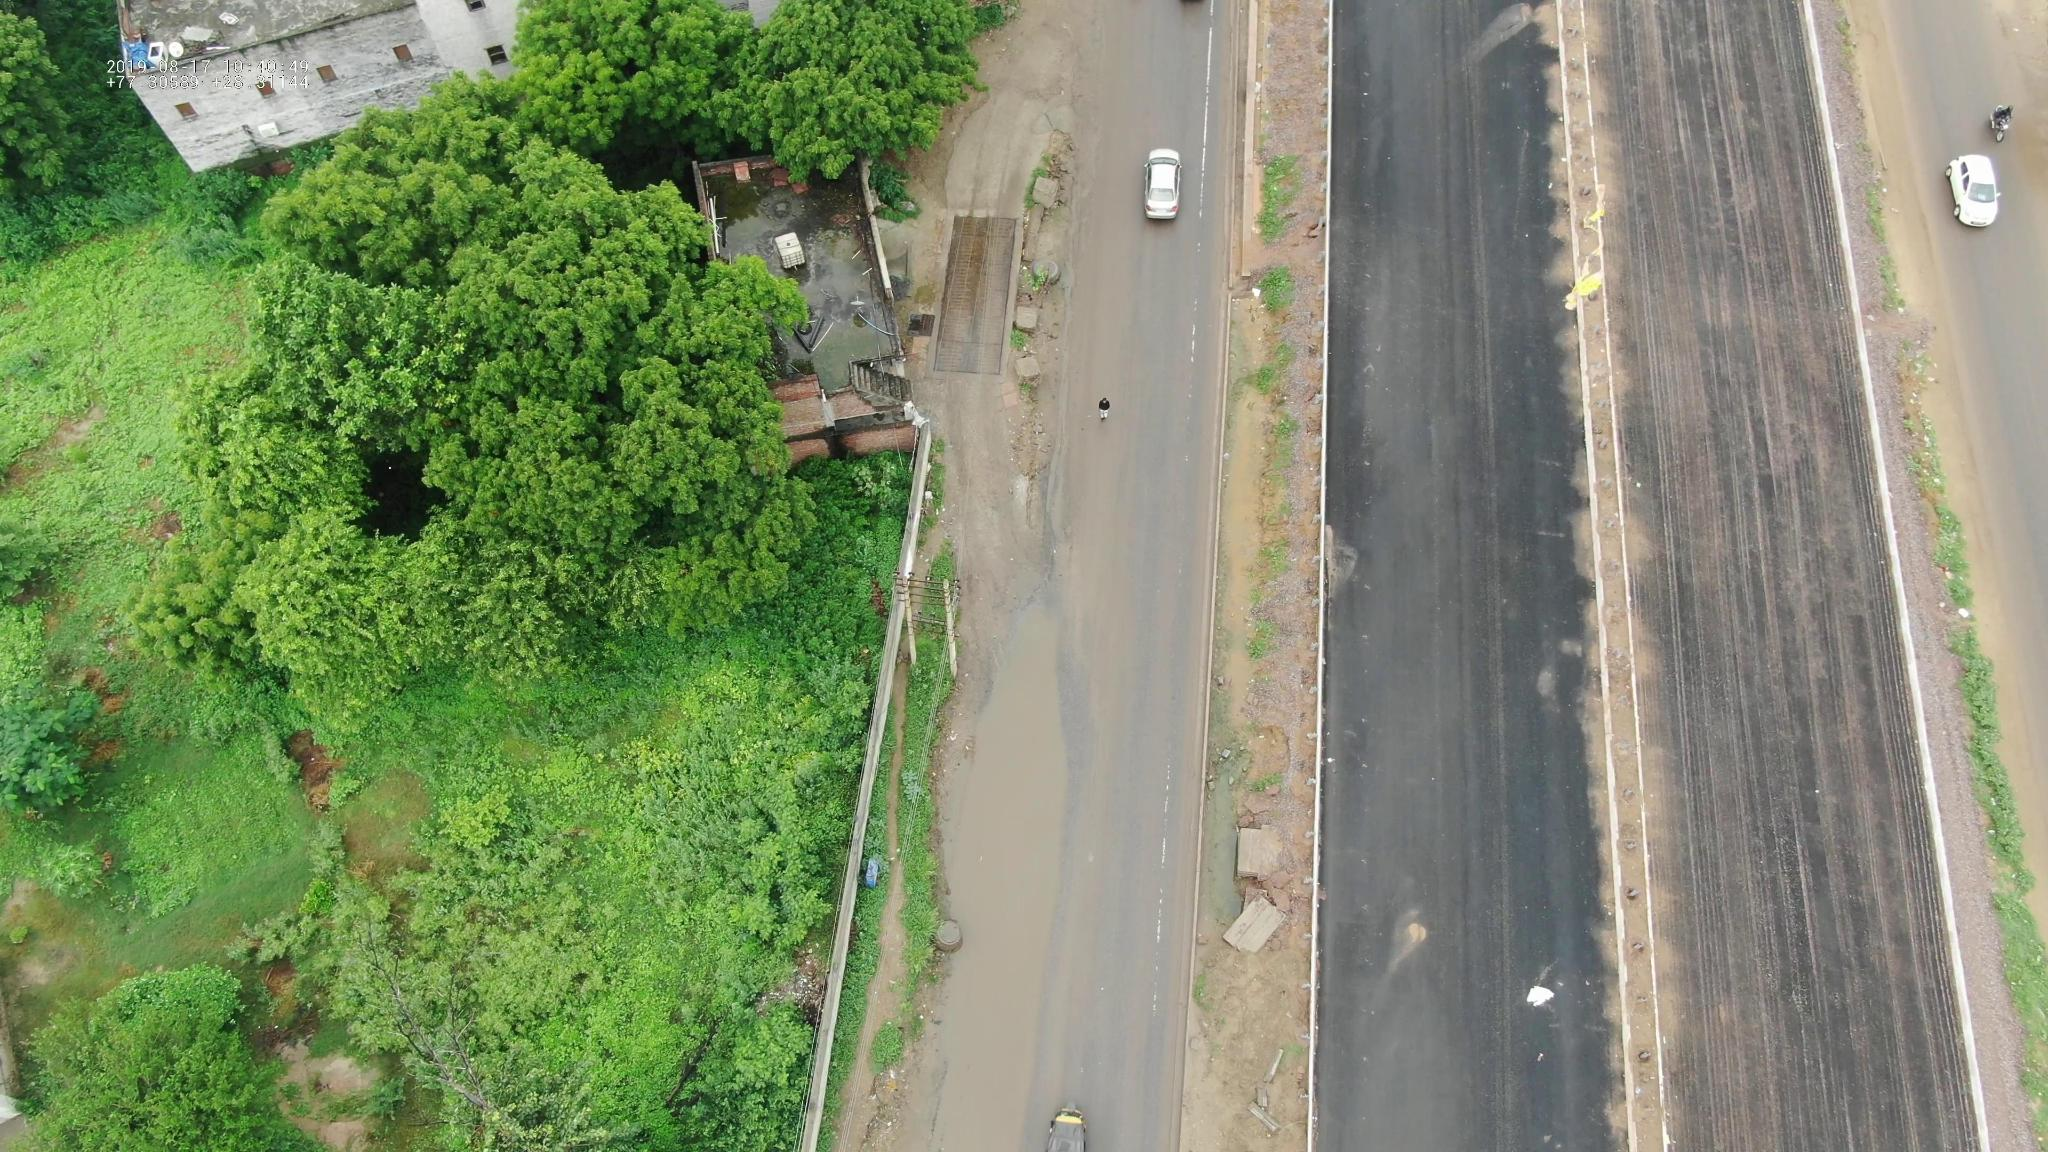Waterlogging: (892, 595, 1079, 1139)
